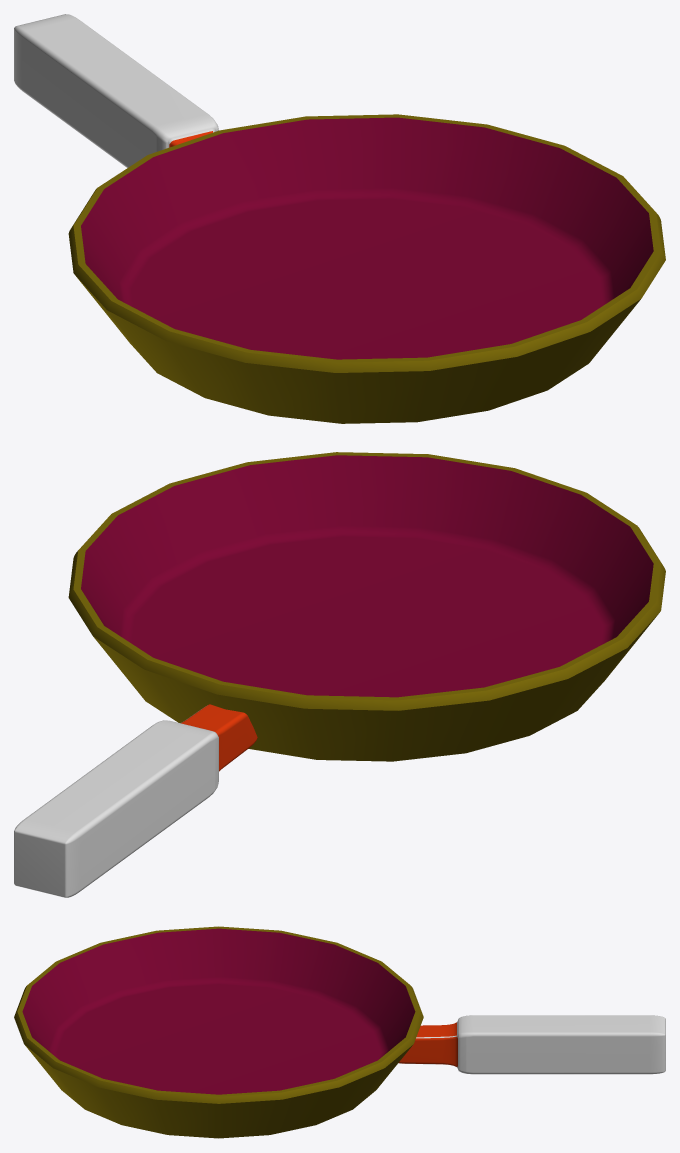
File: pan.fbx
3 renders of one model, top to bottom at view 1: azimuth 30°, elevation 25°; view 2: azimuth 150°, elevation 25°; view 3: azimuth 270°, elevation 25°, orthographic. The views are drawn at different scales.
Parts seen in each view (by area): view 1: Kitchen_Tool_Frying_Pan:Pan_Handle1; view 2: Kitchen_Tool_Frying_Pan:Pan_Handle1; view 3: Kitchen_Tool_Frying_Pan:Pan_Handle1.
Part boxes in pixels (x1,y1,x2,y2): Kitchen_Tool_Frying_Pan:Pan_Handle1: (14,14,665,423); Kitchen_Tool_Frying_Pan:Pan_Handle1: (14,452,665,897); Kitchen_Tool_Frying_Pan:Pan_Handle1: (14,926,665,1138).
Bounding box in the file's own units: 6.84 × 1.05 × 10.88.
